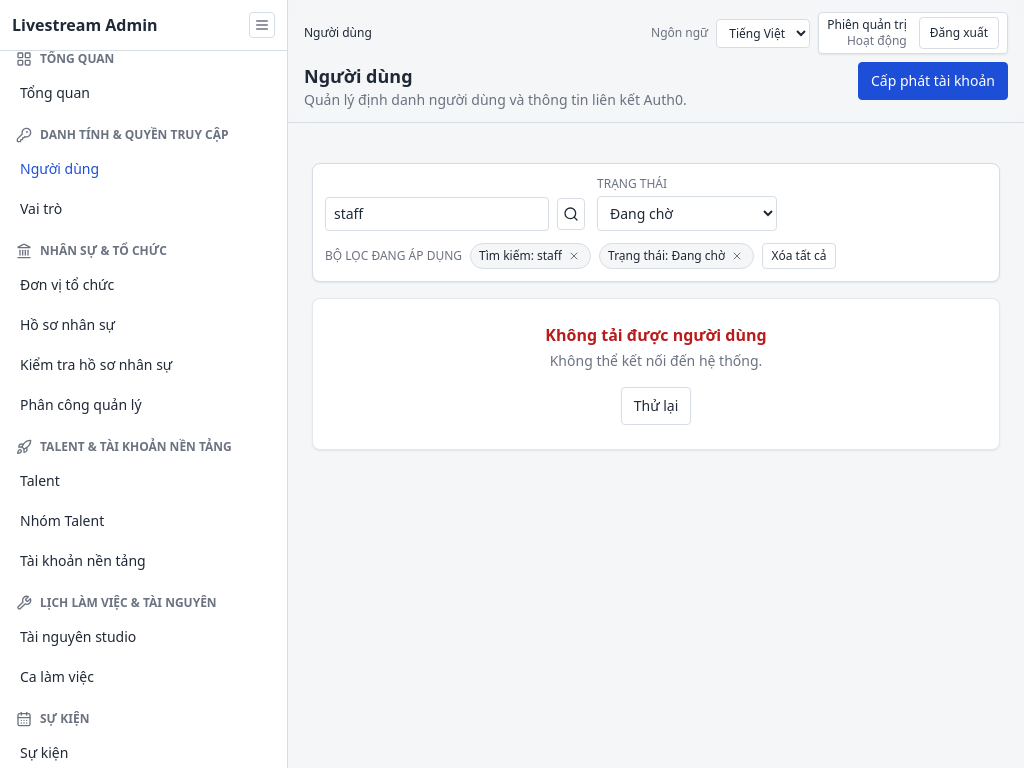
Test case: user IA-1 surfaces › keeps User provision and identity/access filters inspectable when the list request fails
Check: the text "Không tải được người dùng" is shown, box x1=545 y1=324 x2=767 y2=346
Check: the field with placeholder "Tìm theo tên hiển thị hoặc email" holds "staff", box x1=325 y1=197 x2=549 y2=231
Click the button "Cấp phát tài khoản" at (933, 81), box x1=858 y1=62 x2=1008 y2=100
(page scrolled)
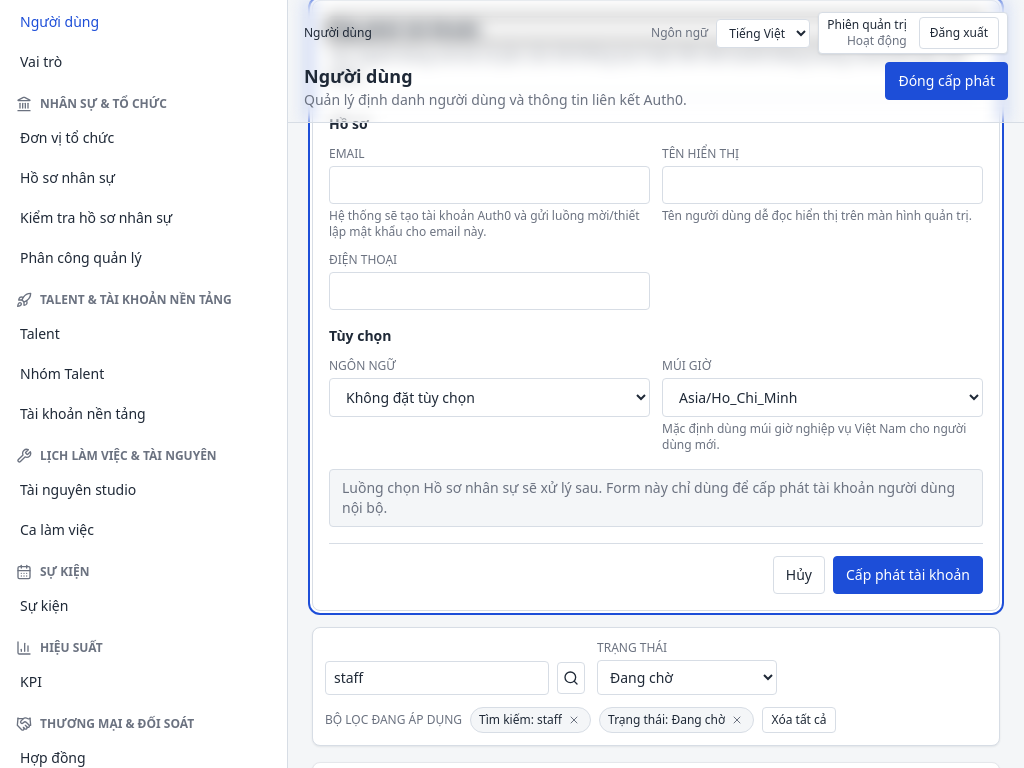
Check: the heading "Cấp phát tài khoản" is shown, box x1=329 y1=18 x2=481 y2=40
